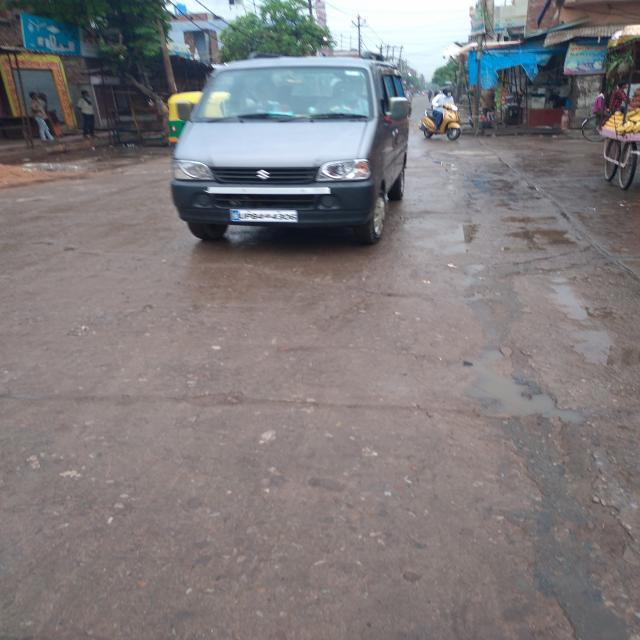Travller: (166, 51, 440, 265)
